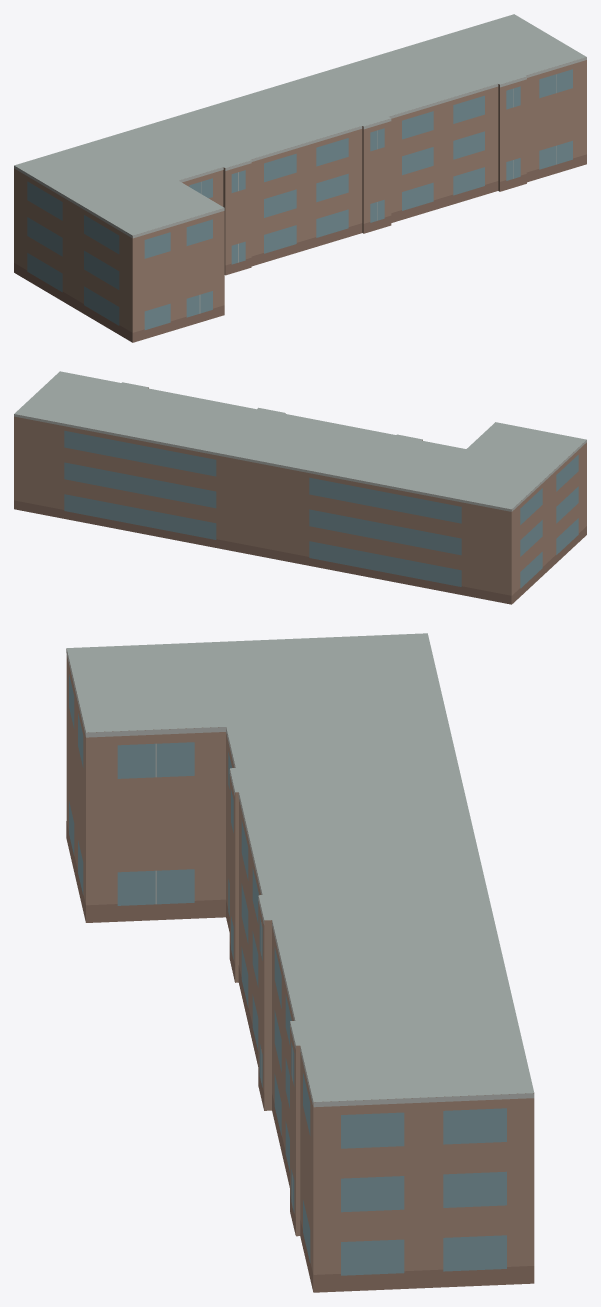
Rendered from survey-upis-32929099.glb.
3 renders of one model, top to bottom at view 1: azimuth 30°, elevation 25°; view 2: azimuth 150°, elevation 25°; view 3: azimuth 270°, elevation 25°, orthographic. The views are drawn at different scales.
Visible parts, largest first — view 1: survey-upis-32929099.tmp; view 2: survey-upis-32929099.tmp; view 3: survey-upis-32929099.tmp.
Boxes of the visible parts, x1,y1,x2,y2 form: survey-upis-32929099.tmp: (14, 14, 586, 342); survey-upis-32929099.tmp: (14, 371, 586, 604); survey-upis-32929099.tmp: (66, 633, 534, 1292).
Size of the model in its own units: 48.31 by 9.15 by 20.38.
